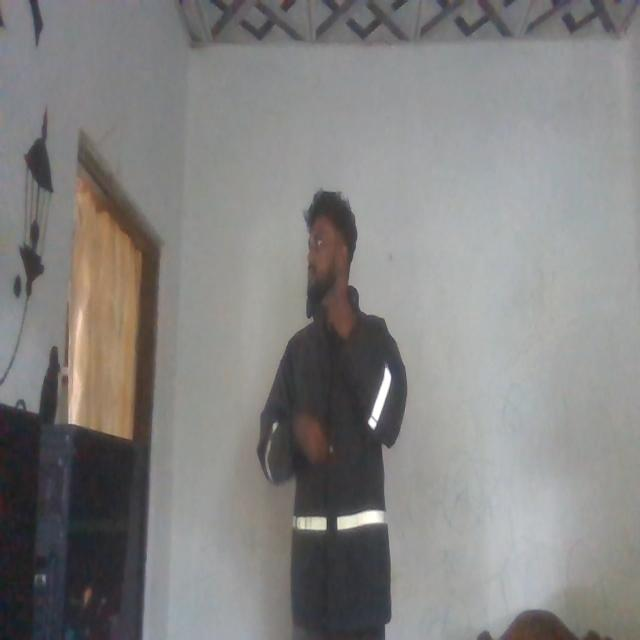Jacket_Wearer: (261, 302, 403, 640)
Person: (262, 193, 406, 640)
